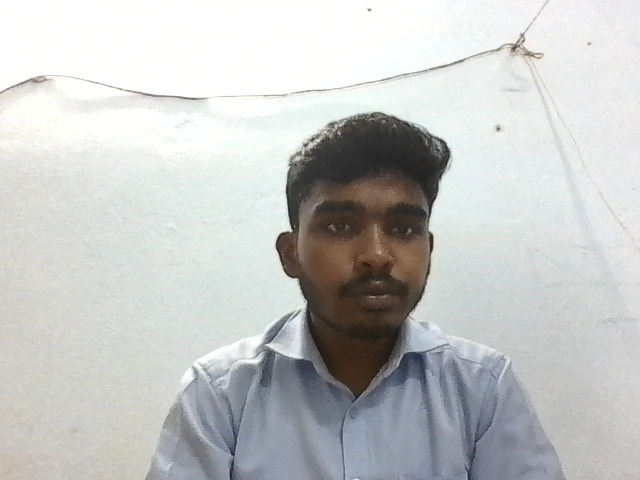real: (279, 109, 451, 353)
